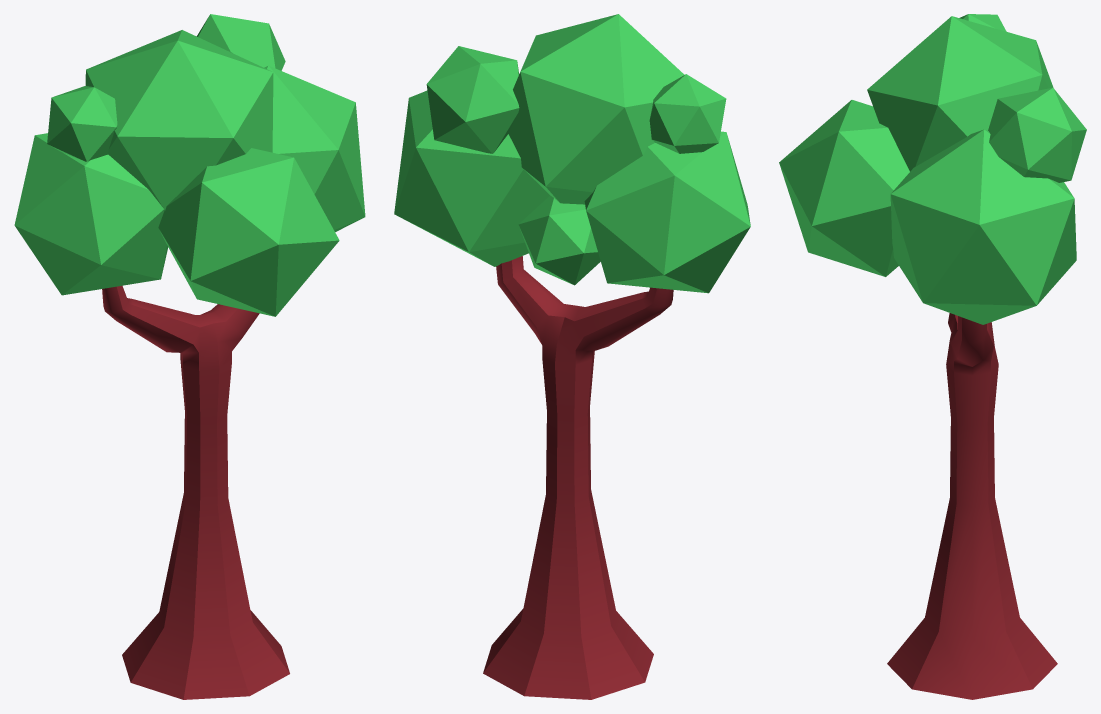
Rendered from Arvore01.fbx.
3 renders of one model, left to right at view 1: azimuth 30°, elevation 25°; view 2: azimuth 150°, elevation 25°; view 3: azimuth 270°, elevation 25°, orthographic. The views are drawn at different scales.
Parts seen in each view (by area): view 1: arvore_01; view 2: arvore_01; view 3: arvore_01.
Boxes of the visible parts, x1=… form: arvore_01: x1=14, y1=14, x2=365, y2=699; arvore_01: x1=394, y1=14, x2=750, y2=699; arvore_01: x1=779, y1=14, x2=1086, y2=699.
Size of the model in its own units: 449 by 812 by 360.
